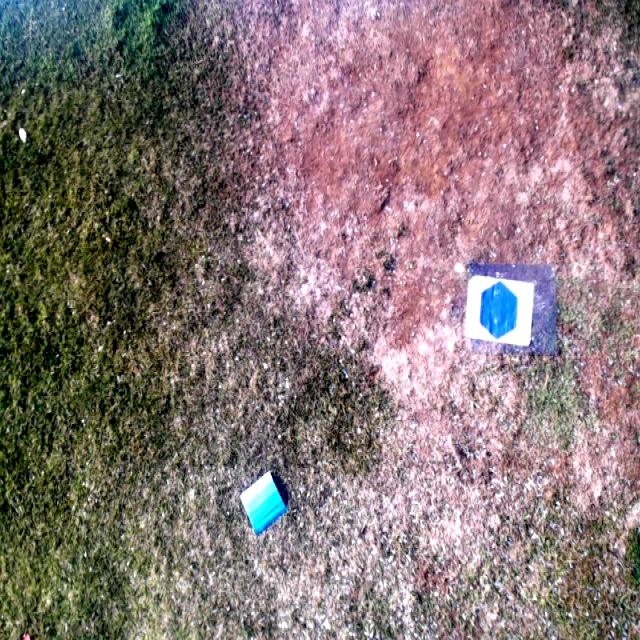blue_hexagon: (479, 281, 519, 340)
blue_square: (239, 469, 288, 536)
